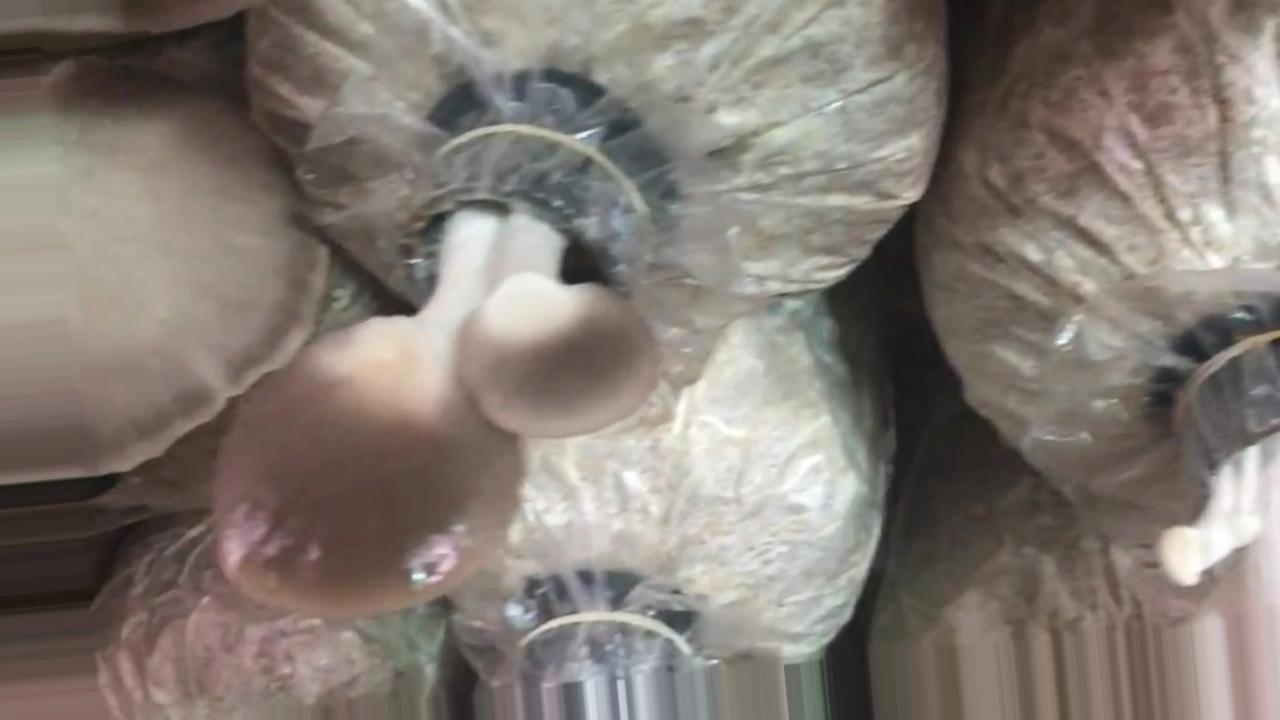nam: (209, 134, 668, 623)
